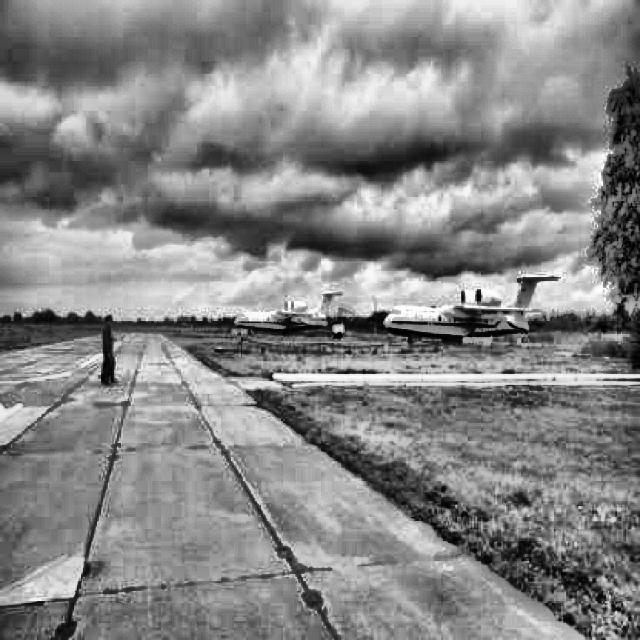Be200: (382, 272, 561, 345), (233, 291, 344, 337)
